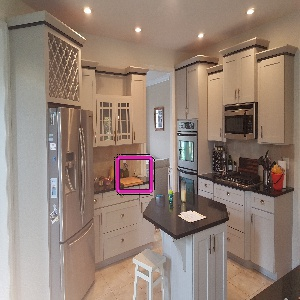square: (113, 153, 156, 196)
